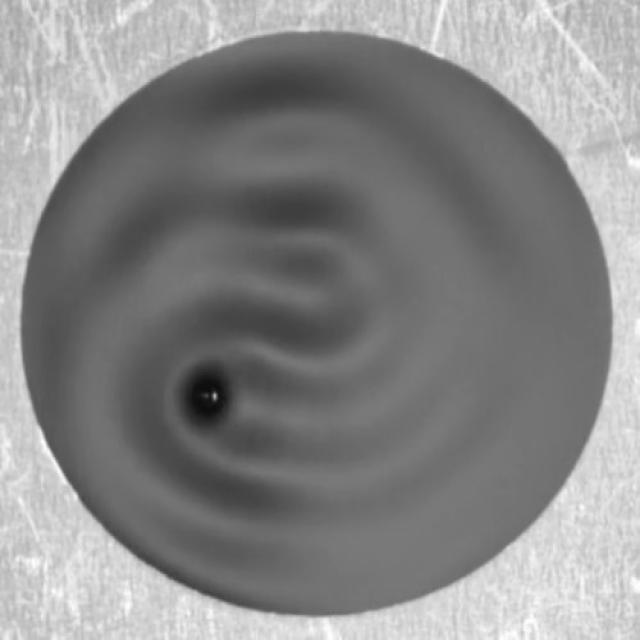droplet: (187, 375, 229, 421)
